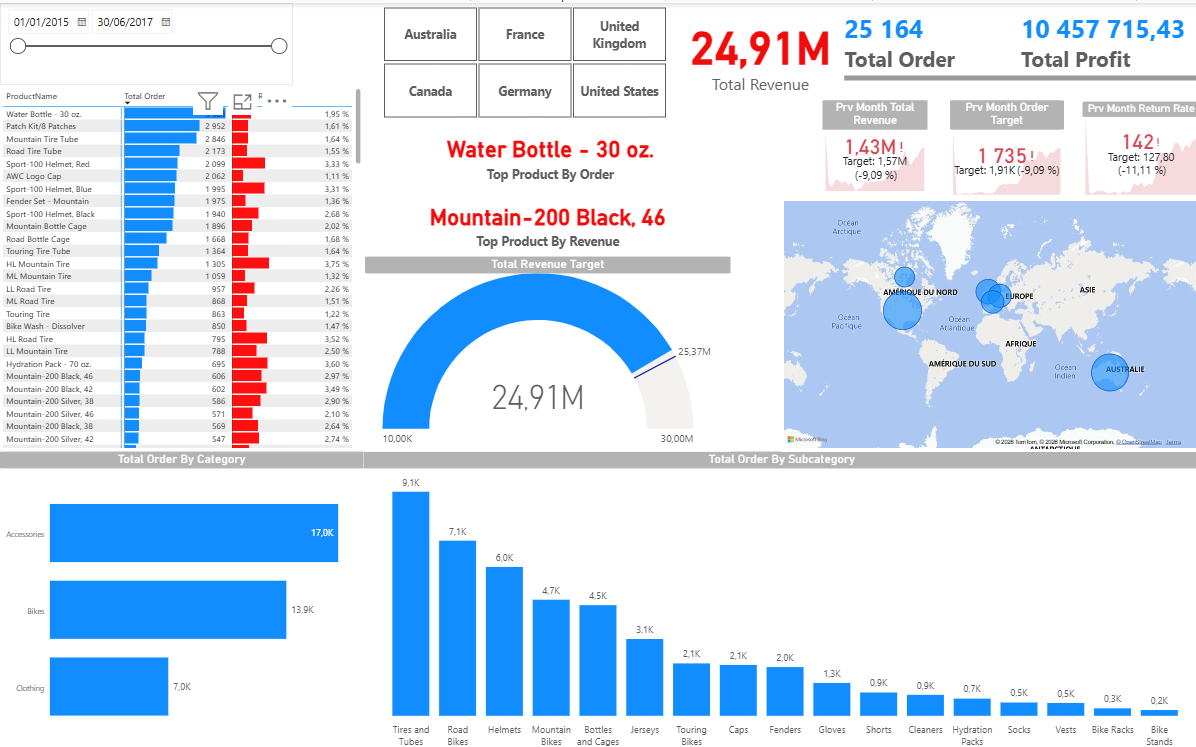

What the dashboard file says about the page in this screenshot:
{"tool":"powerbi","page":{"name":"Page 1","canvas":[1920,1200],"ordinal":0},"visuals":[{"type":"pivotTable","fields":{"Rows":["Products.ProductName"],"Values":["Measure.Total Order","Measure.Return Rate"]},"box":[0,132.5,582.5,585],"z":0},{"type":"barChart","title":"Total Order By Category","fields":{"Y":["Measure.Total Order"],"Category":["Product_Categories.CategoryName"]},"box":[0,718.3,581.7,481.7],"z":1000},{"type":"clusteredColumnChart","title":"Total Order By Subcategory","fields":{"Category":["Product_Subcategories.SubcategoryName"],"Y":["Measure.Total Order"]},"box":[581.7,718.3,1338.3,481.7],"z":2000},{"type":"card","fields":{"Values":["Measure.Total Revenue"]},"box":[1092,0,250,158],"z":3000},{"type":"multiRowCard","fields":{"Values":["Measure.Total Order","Measure.Total Profit"]},"box":[1345,7.5,575,157.5],"z":4000},{"type":"kpi","title":"Prv Month Total Revenue","fields":{"Indicator":["Measure.Total Revenue"],"Goal":["Measure.Revenue Target"],"TrendLine":["Calendar.End of Month"]},"box":[1316,156,168,150],"z":5000},{"type":"kpi","title":"Prv Month Order Target","fields":{"Indicator":["Measure.Total Order"],"TrendLine":["Calendar.End of Month"],"Goal":["Measure.Order Target"]},"box":[1520,156,182,156],"z":6000},{"type":"kpi","title":"Prv Month Return Rate","fields":{"Indicator":["Measure.Total Return"],"TrendLine":["Calendar.End of Month"],"Goal":["Measure.Return Target"]},"box":[1732,158,188,154],"z":7000},{"type":"slicer","fields":{"Values":["Calendar.Date"]},"box":[0,0,467.5,132.5],"z":8000},{"type":"slicer","fields":{"Values":["Locales.Country"]},"box":[588.3,0,501.7,190],"z":9000},{"type":"card","fields":{"Values":["Min(Products.ProductName)"]},"box":[588.3,190,585,108.3],"z":10000},{"type":"card","fields":{"Values":["Min(Products.ProductName)"]},"box":[583.3,298.3,585,108.3],"z":11000},{"type":"gauge","title":"Total Revenue Target","fields":{"TargetValue":["Measure.Revenue Target"],"Y":["Measure.Total Revenue"]},"box":[583,406,585,312],"z":12000},{"type":"map","fields":{"Category":["Locales.Country"],"Size":["Measure.Total Revenue"]},"box":[1250,312,670,406],"z":13000}]}

Visuals, with their boxes in screenshot pixels (x1, y1, x2, y2), scaled from the page's 1920x1200 canvas onto the 1196x747 screenshot:
pivotTable - Products.ProductName x Measure.Total Order: <box>0,82,363,447</box>
"Total Order By Category" barChart: <box>0,447,362,746</box>
"Total Order By Subcategory" clusteredColumnChart: <box>362,447,1195,746</box>
card - Measure.Total Revenue: <box>680,0,836,98</box>
multiRowCard - Measure.Total Order x Measure.Total Profit: <box>838,5,1195,103</box>
"Prv Month Total Revenue" kpi: <box>820,97,924,190</box>
"Prv Month Order Target" kpi: <box>947,97,1060,194</box>
"Prv Month Return Rate" kpi: <box>1079,98,1195,194</box>
slicer - Calendar.Date: <box>0,0,291,82</box>
slicer - Locales.Country: <box>366,0,679,118</box>
card - Min(Products.ProductName): <box>366,118,731,186</box>
card - Min(Products.ProductName): <box>363,186,728,253</box>
"Total Revenue Target" gauge: <box>363,253,728,447</box>
map - Locales.Country x Measure.Total Revenue: <box>779,194,1195,447</box>
